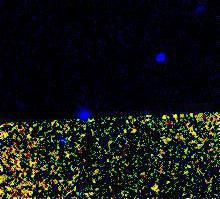star: (141, 169, 171, 199)
